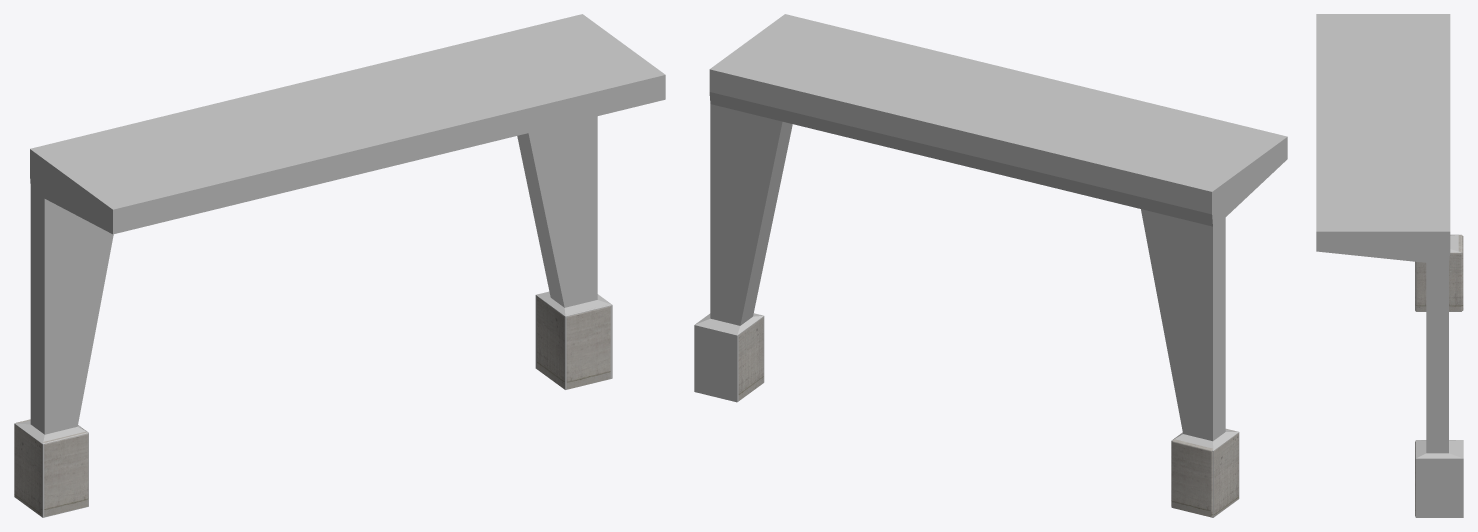
The model's file is s_metal_support.dae.
3 renders of one model, left to right at view 1: azimuth 30°, elevation 25°; view 2: azimuth 150°, elevation 25°; view 3: azimuth 270°, elevation 25°, orthographic. The views are drawn at different scales.
Parts seen in each view (by area): view 1: Colmesh_s_metal_support-1, s_metal_support_L400; view 2: Colmesh_s_metal_support-1, s_metal_support_L400; view 3: Colmesh_s_metal_support-1, s_metal_support_L400.
Part boxes in pixels (x1,y1,x2,y2): Colmesh_s_metal_support-1: (14, 14, 665, 517); s_metal_support_L400: (14, 297, 610, 516); Colmesh_s_metal_support-1: (694, 14, 1287, 517); s_metal_support_L400: (738, 317, 1238, 517); Colmesh_s_metal_support-1: (1316, 14, 1463, 517); s_metal_support_L400: (1415, 235, 1463, 516).
Size of the model in its own units: 8.4 by 2.33 by 4.95.
